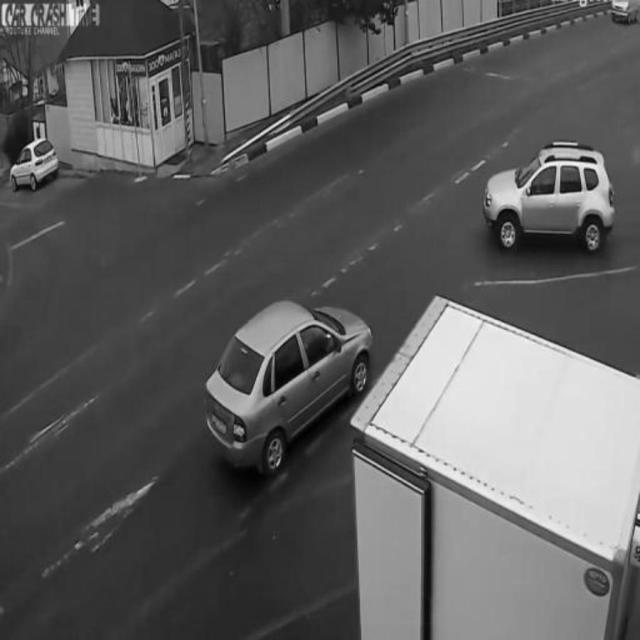vehicle: (204, 298, 370, 474), (486, 144, 620, 254), (12, 141, 56, 193)
